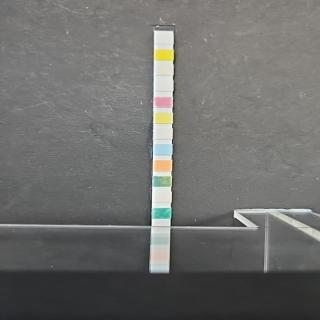mark: (156, 78, 172, 92), (153, 175, 171, 187), (154, 96, 172, 108), (154, 111, 171, 123), (154, 128, 172, 139), (154, 160, 170, 172), (156, 32, 172, 44), (152, 208, 171, 218), (153, 192, 170, 203), (154, 144, 171, 155), (155, 49, 172, 60), (156, 64, 172, 75)
